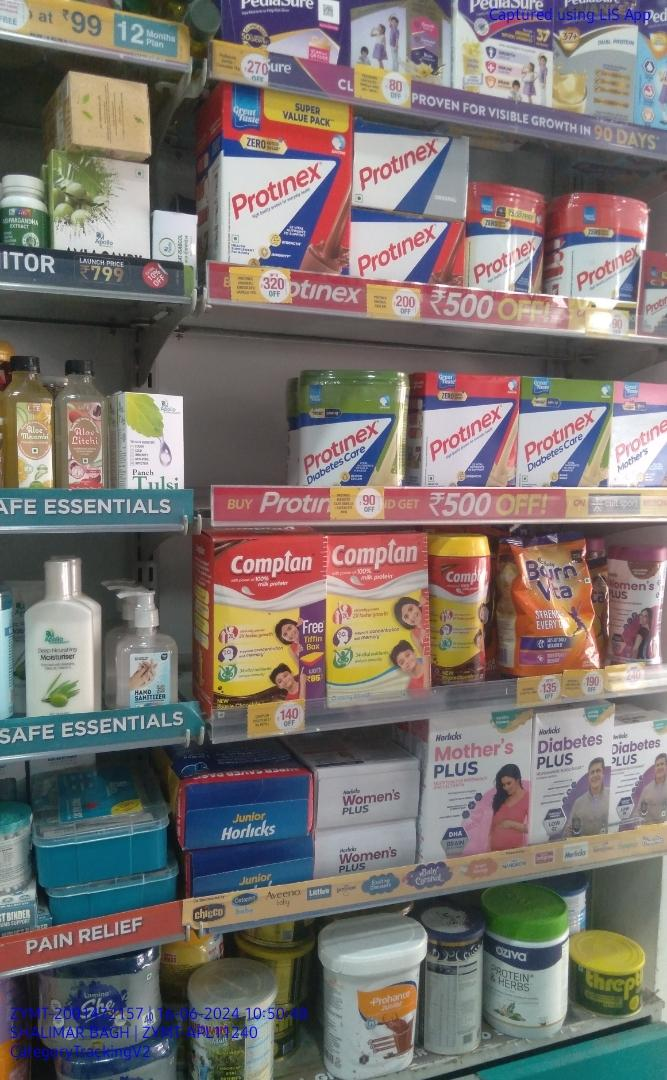BOURN_VITA_750_G_POUCH: (504, 537, 595, 669)
COMPLAN_CHOCOLATE_500_GMS_JAR: (432, 536, 486, 687)
COMPLAN_CREAMY_CLASSIC_500_G_PACK: (327, 534, 428, 702)
PROTINEX_CHOCOLATE_400_G_JAR: (553, 193, 644, 298)
PROTINEX_VANILLA_400_G_JAR: (470, 181, 546, 295)
